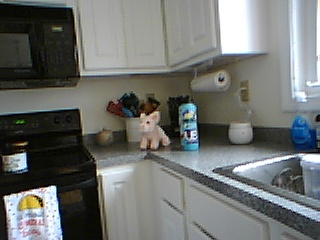piggy: (139, 110, 170, 151)
